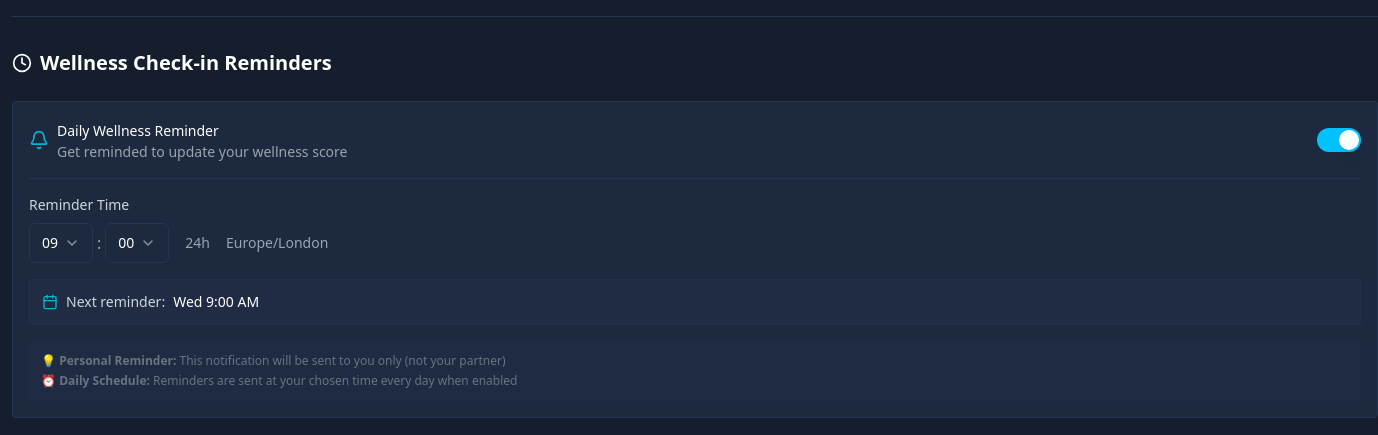
Test case: personal reminder RPC integration › keeps Save reachable when disabling, sends no browser timezone, and shows only confirmed success
This screenshot has width=1378, height=435.
Later steps or results of the test are not shown.
Click the switch named "Daily Wellness Reminder" at (1339, 140), box [1317,128,1361,152]
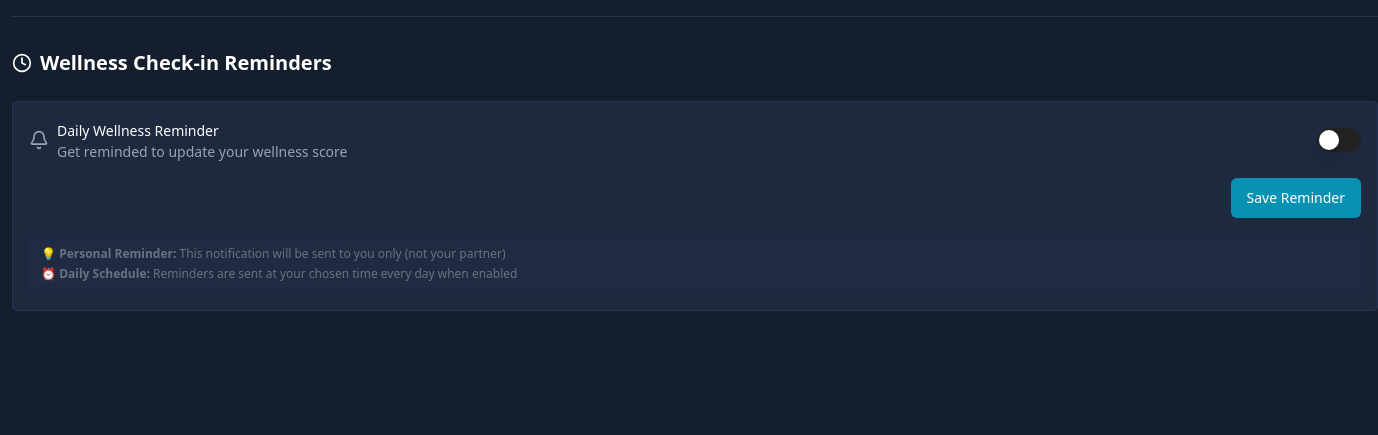
Expected: the label labelled "Reminder Time" is gone
